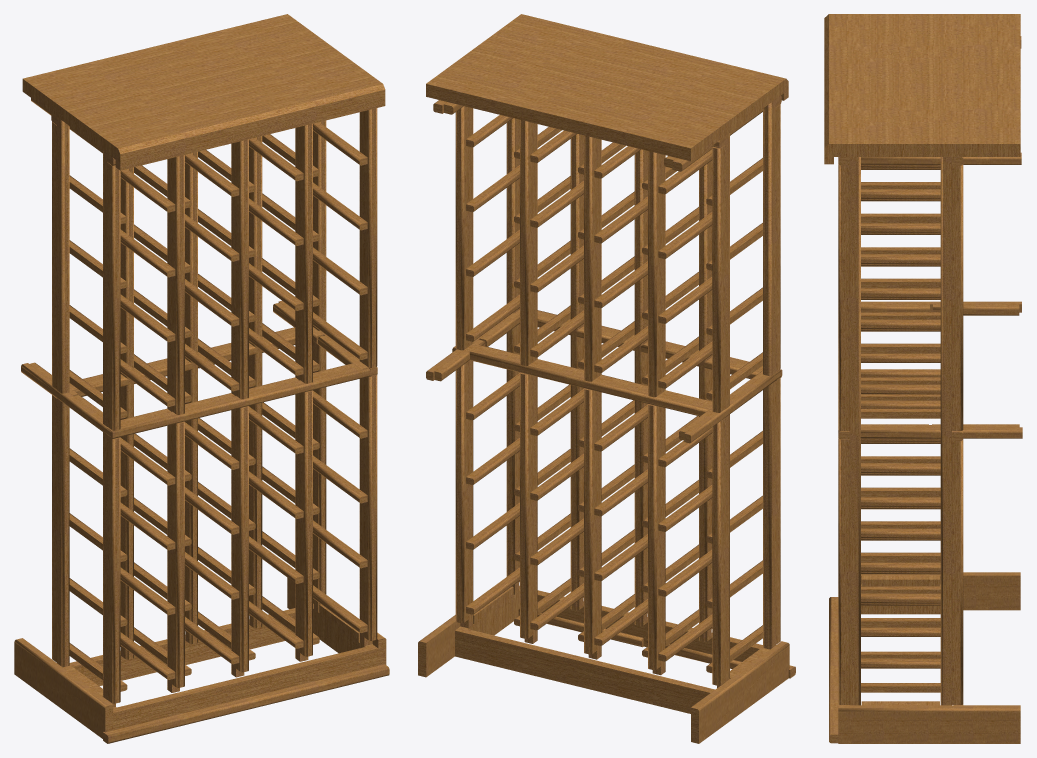
File: VCKC0010.glb
The picture shows the model from 3 angles, left to right: view 1: azimuth 30°, elevation 25°; view 2: azimuth 150°, elevation 25°; view 3: azimuth 270°, elevation 25°; orthographic projection.
Visible parts, largest first — view 1: G-Difference.025; view 2: G-Difference.025; view 3: G-Difference.025.
Part boxes in pixels (<box>): G-Difference.025: <box>14,14,389,743</box>; G-Difference.025: <box>418,14,795,743</box>; G-Difference.025: <box>824,14,1022,743</box>.
Size of the model in its own units: 0.4332 by 0.87 by 0.262.
2 materials, 2 textured.
